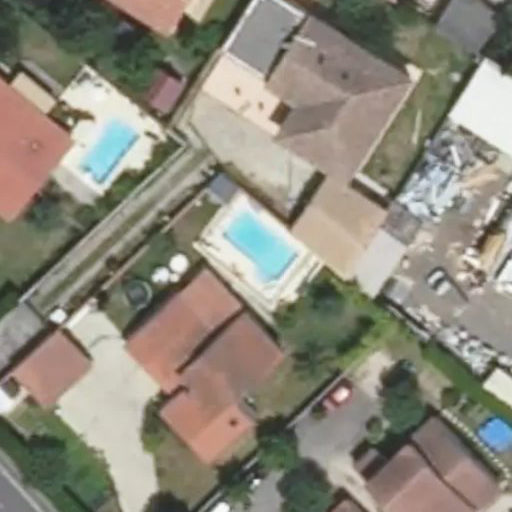pool: (208, 241, 296, 250)
